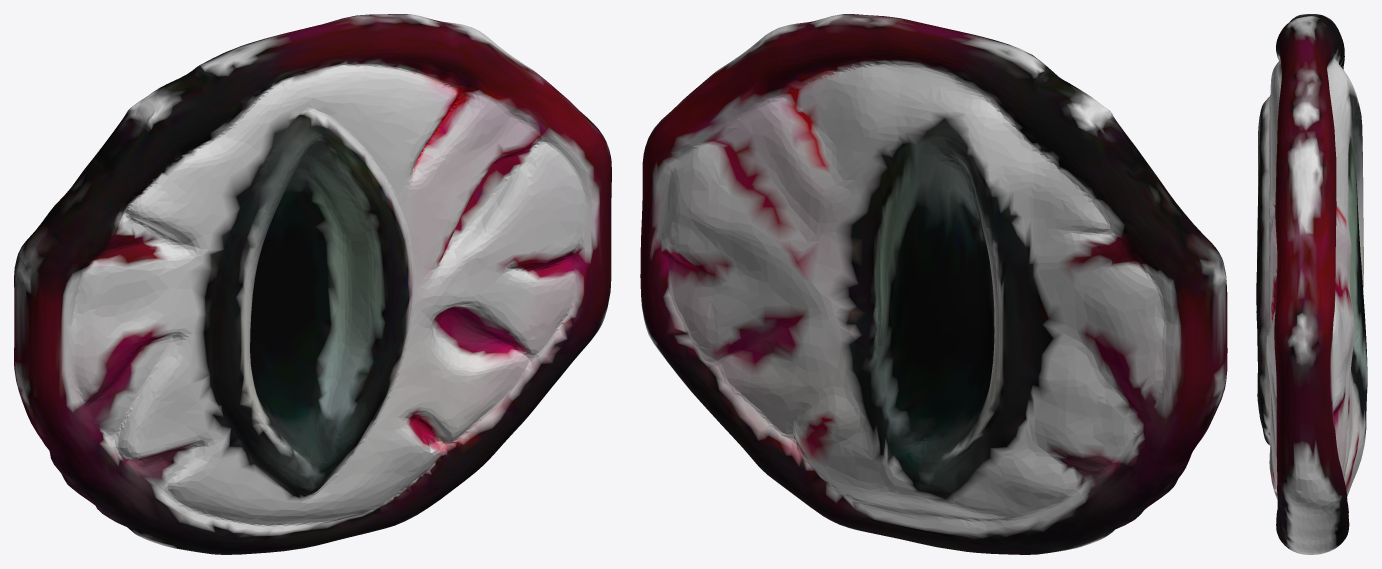
Rendered from dragon_eye.glb.
3 views of the same model, side by side, from view 1: azimuth 30°, elevation 25°; view 2: azimuth 150°, elevation 25°; view 3: azimuth 270°, elevation 25° (orthographic). The views are drawn at different scales.
Parts seen in each view (by area): view 1: geometry_0; view 2: geometry_0; view 3: geometry_0.
Boxes of the visible parts, left/top/right/bottom form: geometry_0: left=14, top=14, right=611, bottom=554; geometry_0: left=640, top=14, right=1227, bottom=554; geometry_0: left=1256, top=14, right=1367, bottom=554.
Bounding box in the file's own units: 0.5938 × 0.5004 × 0.1084.
